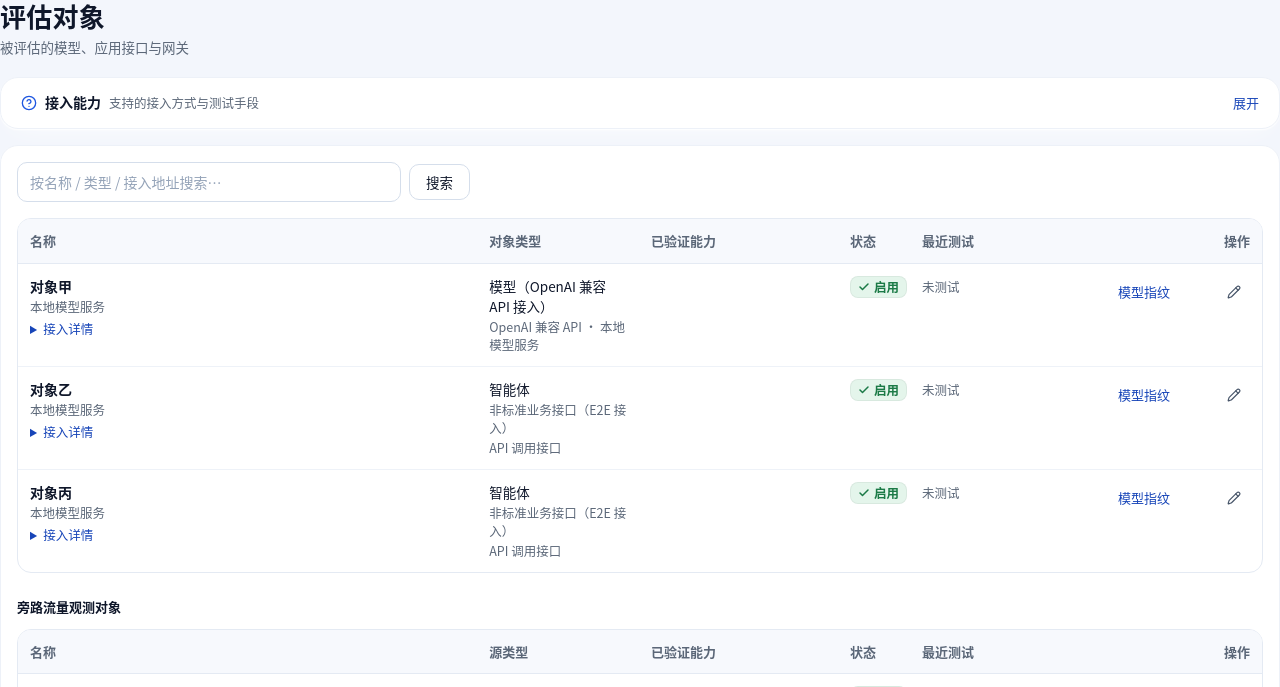
it: ModelTargetsPage 模型指纹入口 › 仅模型/智能体类对象显示“模型指纹”链接，点击打开弹窗
Check: the button "模型指纹" in the row of "对象乙" is shown, box [1110,379,1178,411]
Check: the button "模型指纹" in the row of "对象丙" is shown, box [1110,482,1178,514]
What coordinates should you click on to do the following:
click the button "模型指纹" in the row of "对象甲"
I would click on:
 (1144, 292)
Its box is [1110,276,1178,308].
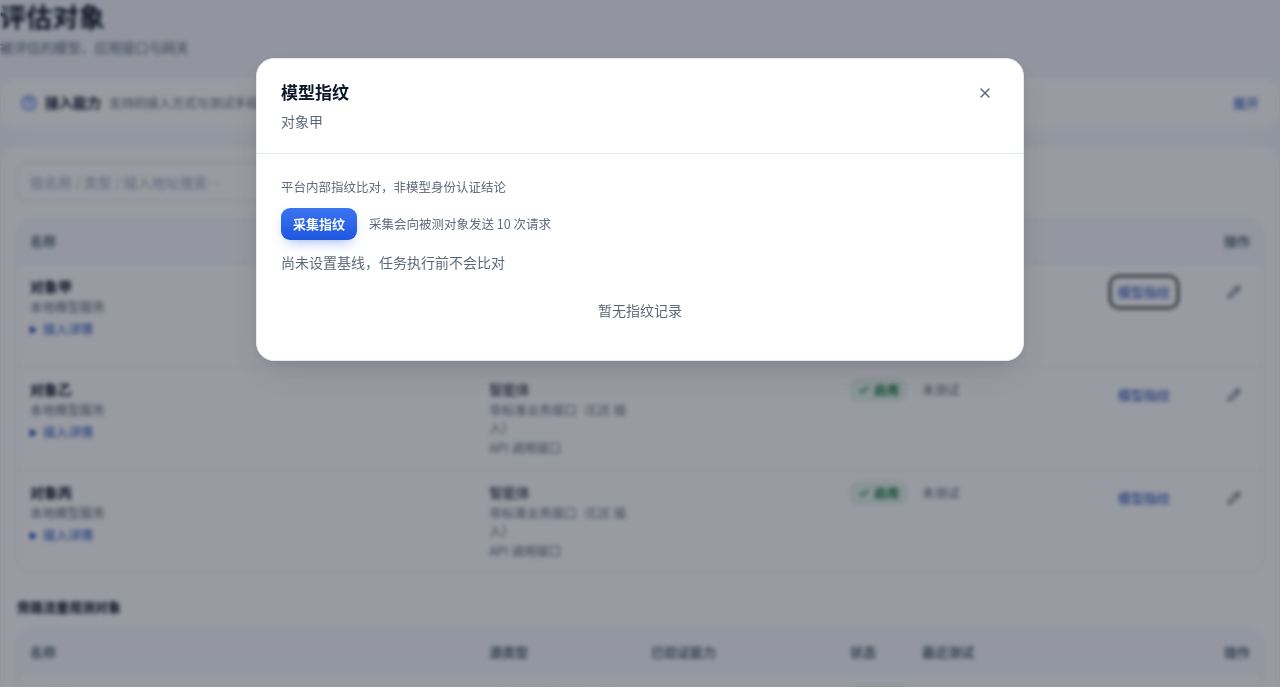
Check: the text "尚未设置基线，任务执行前不会比对" is shown, box [281,252,505,272]
Check: the button "采集指纹" is shown, box [281,208,357,240]
